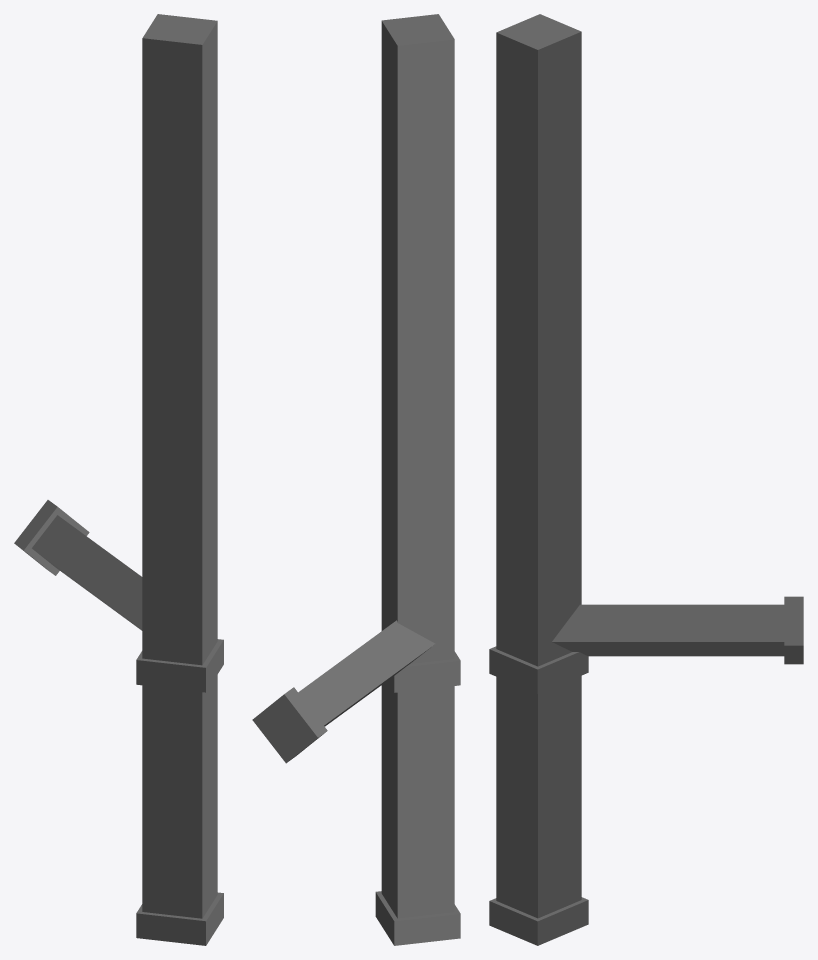
Rendered from Item_Tonfa01.FBX.
3 views of the same model, side by side, from view 1: azimuth 30°, elevation 25°; view 2: azimuth 150°, elevation 25°; view 3: azimuth 270°, elevation 25° (orthographic).
Visible parts, largest first — view 1: Item_Tonfa01; view 2: Item_Tonfa01; view 3: Item_Tonfa01.
Part boxes in pixels (<box>): Item_Tonfa01: <box>14,14,223,945</box>; Item_Tonfa01: <box>252,14,460,945</box>; Item_Tonfa01: <box>489,14,803,945</box>.
Size of the model in its own units: 5.88 by 58.39 by 18.62.
